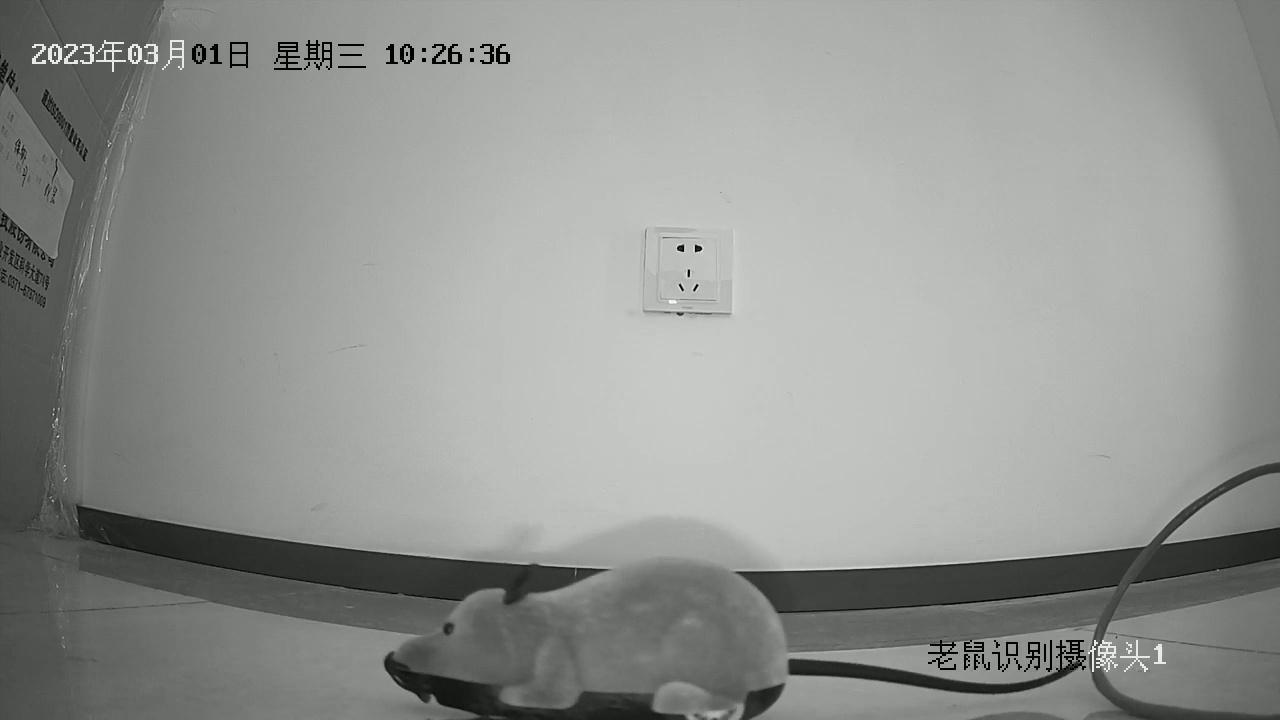rat: (383, 553, 1084, 719)
